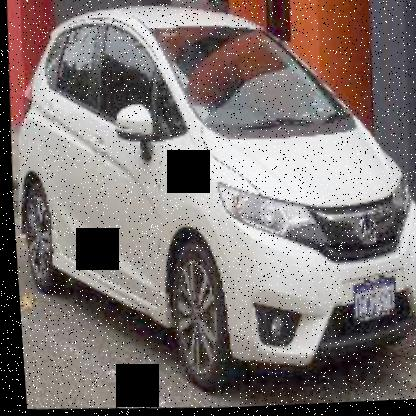not_emergency: (9, 0, 415, 384)
